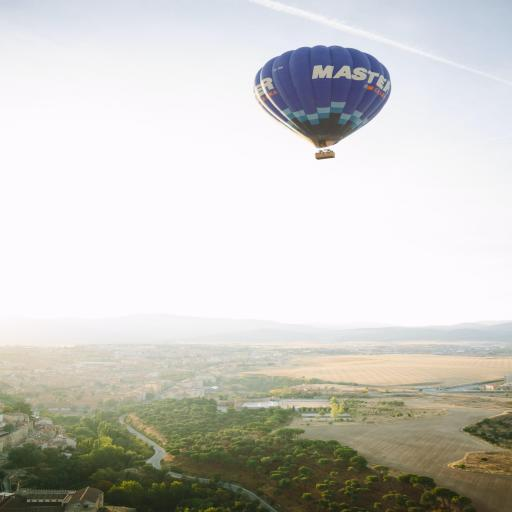hot air ballon: (248, 40, 394, 163)
